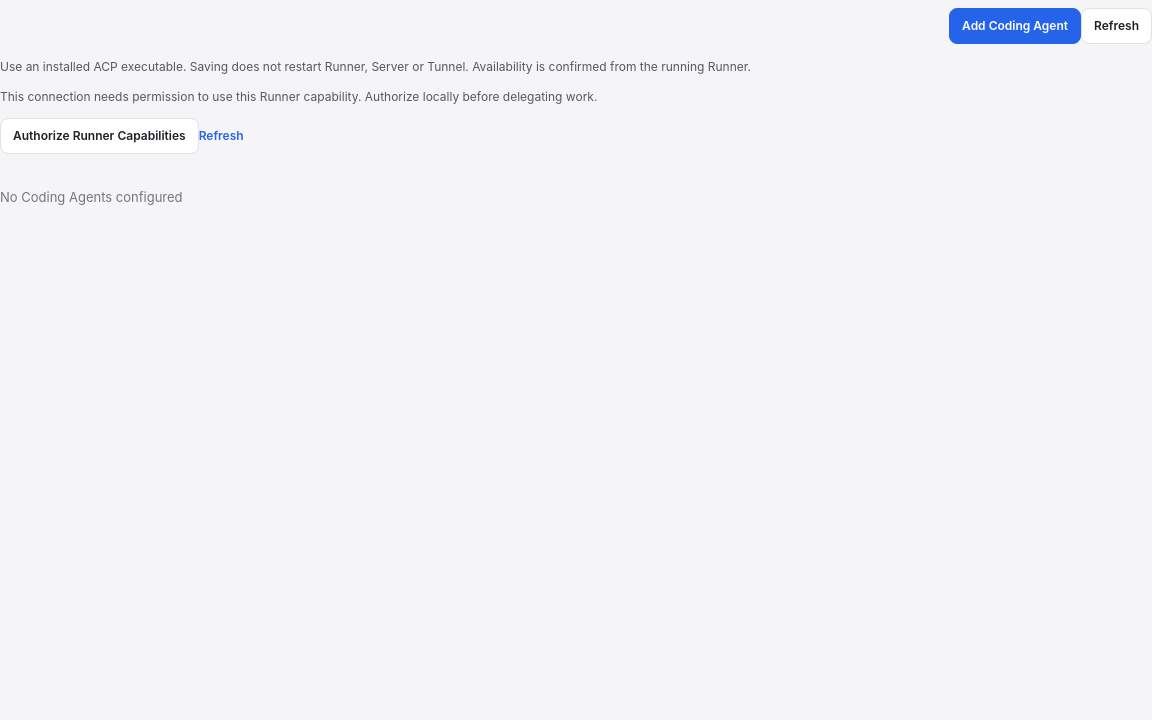
Scenario: Desktop SSH Resources › acp uses shared explicit local authorization, independently of SSH inventory
Click the button "Authorize Runner Capabilities". click: (99, 136)
box: [0,118,199,154]
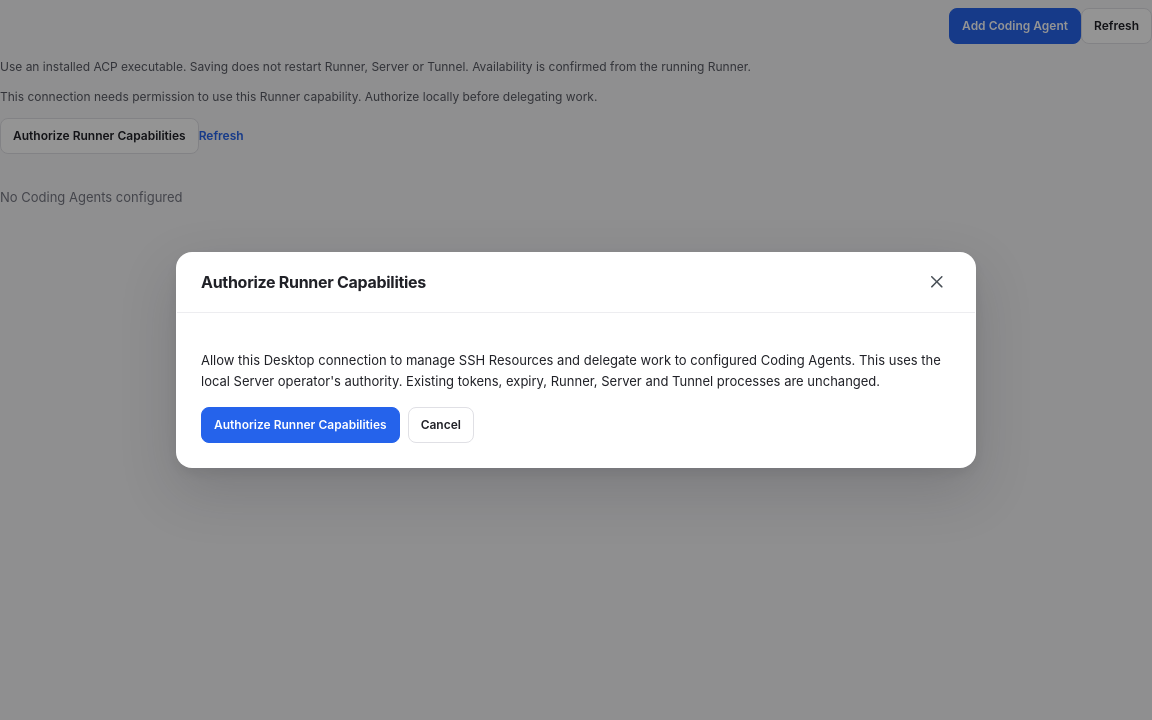
Check: the text "Existing tokens, expiry" is shown, box [201,352,941,388]
Click the button with aria-label "Confirm Authorize Runner Capabilities". click: (300, 425)
box: [201,407,400,443]
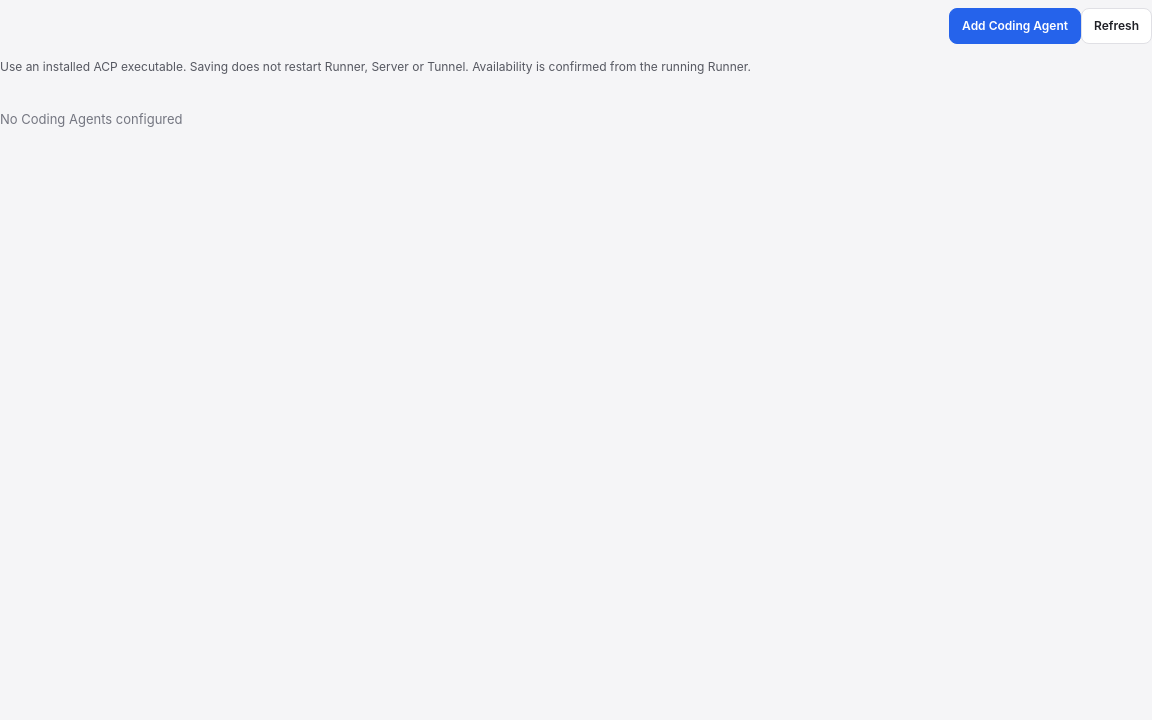
Check: the button "Authorize Runner Capabilities" is gone
